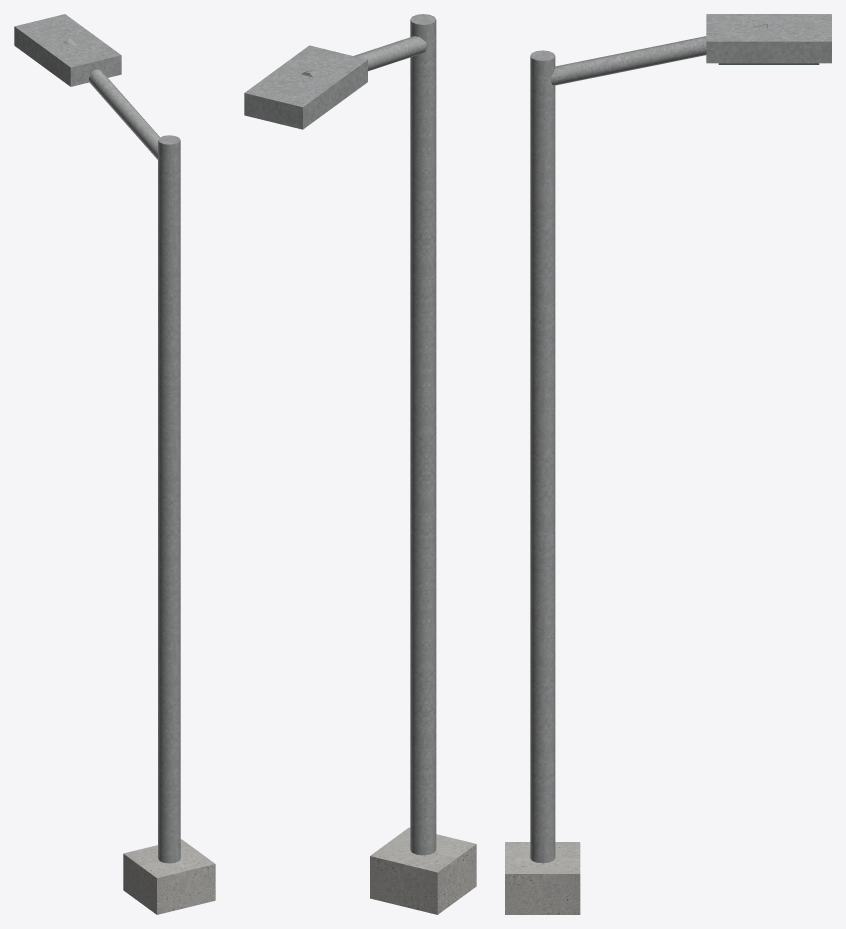
Rendered from street_lamp.obj.
3 views of the same model, side by side, from view 1: azimuth 30°, elevation 25°; view 2: azimuth 150°, elevation 25°; view 3: azimuth 270°, elevation 25° (orthographic). The views are drawn at different scales.
Parts seen in each view (by area): view 1: Dark_Frame, Concrete, Metal_Silver; view 2: Dark_Frame, Concrete, Metal_Silver; view 3: Dark_Frame, Metal_Silver, Concrete.
Part boxes in pixels (box(x1,y1,x2,y2)): Dark_Frame: box(63, 38, 180, 863); Concrete: box(123, 839, 215, 914); Metal_Silver: box(14, 14, 121, 86); Dark_Frame: box(301, 14, 436, 855); Concrete: box(370, 827, 476, 914); Metal_Silver: box(244, 45, 367, 129); Dark_Frame: box(530, 24, 767, 863); Metal_Silver: box(706, 14, 831, 63); Concrete: box(505, 842, 580, 914).
Bounding box in the file's own units: 0.6 × 7.67 × 2.6.
